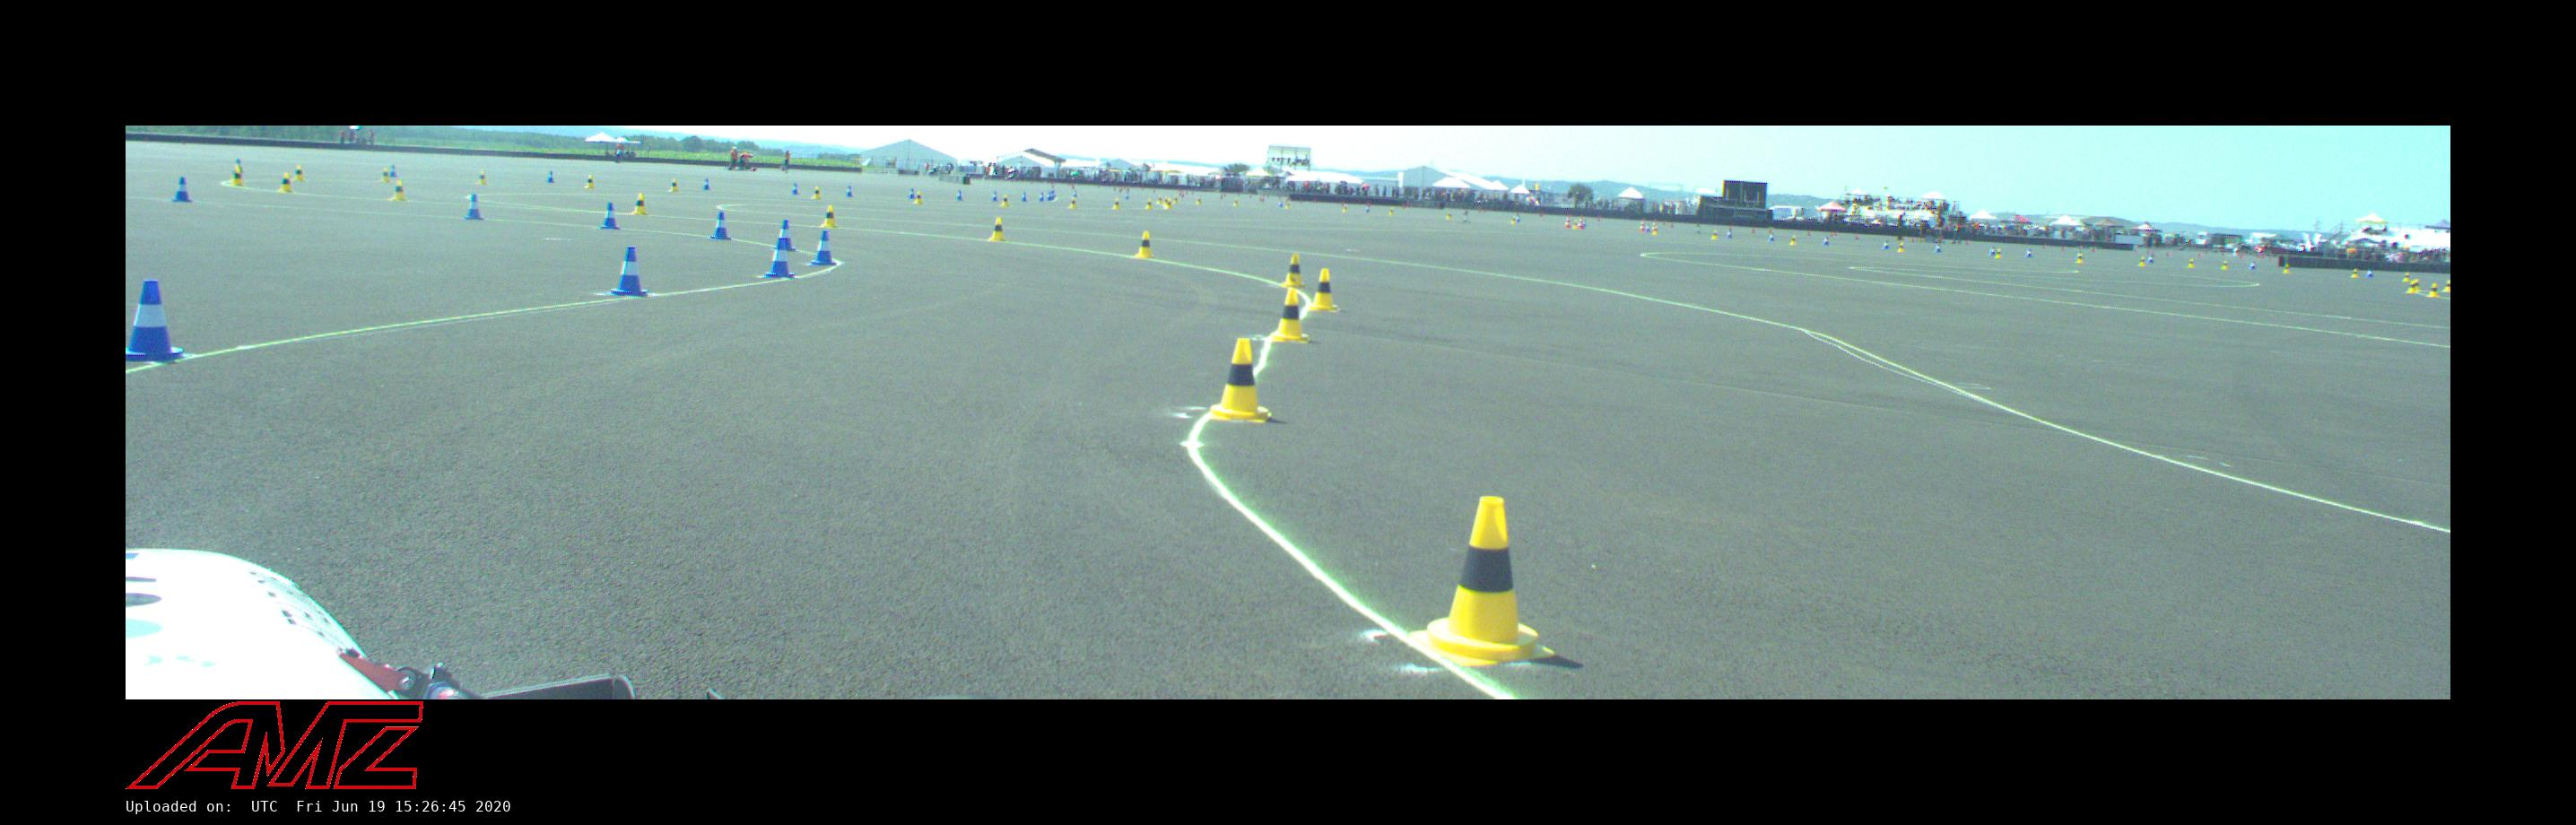blue_cone: (126, 280, 191, 361), (610, 247, 650, 297), (761, 239, 794, 278), (807, 231, 837, 265), (773, 220, 796, 250), (709, 210, 731, 240), (171, 177, 192, 203), (464, 194, 484, 220), (601, 203, 620, 230), (233, 158, 245, 176), (545, 171, 556, 183), (701, 178, 711, 190), (390, 164, 399, 178), (792, 182, 800, 195), (1881, 239, 1891, 250), (908, 187, 916, 199), (956, 189, 964, 201), (846, 185, 853, 197), (2024, 248, 2033, 258), (1768, 230, 1775, 242), (2249, 260, 2257, 270), (991, 190, 998, 201), (1021, 191, 1028, 202), (1934, 244, 1942, 253), (2367, 268, 2374, 278), (1823, 237, 1830, 246), (1039, 192, 1045, 202), (1989, 246, 1995, 256), (2147, 254, 2154, 264), (1072, 189, 1078, 198), (1645, 222, 1650, 232), (1727, 230, 1732, 239), (1515, 214, 1520, 222), (1049, 191, 1053, 200), (1365, 206, 1370, 213), (1278, 201, 1283, 207)
large_orange_cone: (1649, 219, 1658, 234), (1637, 218, 1646, 232), (1578, 214, 1584, 229), (1564, 214, 1571, 228)
yellow_cone: (1411, 497, 1555, 666), (1208, 339, 1275, 421), (1268, 289, 1310, 342), (1308, 269, 1340, 310), (1281, 254, 1304, 288), (1136, 231, 1154, 258), (988, 217, 1007, 241), (821, 205, 838, 228), (632, 194, 648, 214), (391, 180, 407, 201), (277, 173, 293, 192), (231, 165, 243, 186), (292, 165, 306, 181), (2427, 282, 2441, 298), (2406, 280, 2418, 294), (476, 170, 488, 185), (379, 168, 390, 183), (668, 179, 681, 192), (811, 187, 822, 200), (584, 175, 596, 188), (1000, 195, 1010, 207), (915, 192, 924, 204), (2075, 253, 2084, 264), (2283, 263, 2292, 274), (1144, 198, 1153, 210), (2412, 279, 2421, 291), (2186, 257, 2195, 268), (1896, 242, 1905, 253), (1789, 235, 1798, 246), (1069, 197, 1077, 209), (1112, 198, 1120, 210), (2351, 268, 2360, 278), (2219, 260, 2228, 270), (2443, 280, 2450, 291), (1165, 198, 1172, 210), (2137, 256, 2145, 266), (1163, 196, 1171, 207), (1652, 225, 1659, 236), (2402, 273, 2410, 282), (1572, 219, 1579, 230), (1510, 215, 1516, 224), (1996, 248, 2001, 258), (1196, 196, 1202, 204), (1342, 204, 1348, 213), (1712, 230, 1718, 239), (1233, 197, 1239, 206), (1157, 195, 1162, 204), (1173, 195, 1179, 204), (1388, 208, 1394, 216), (1446, 212, 1451, 220), (1285, 202, 1291, 209)
